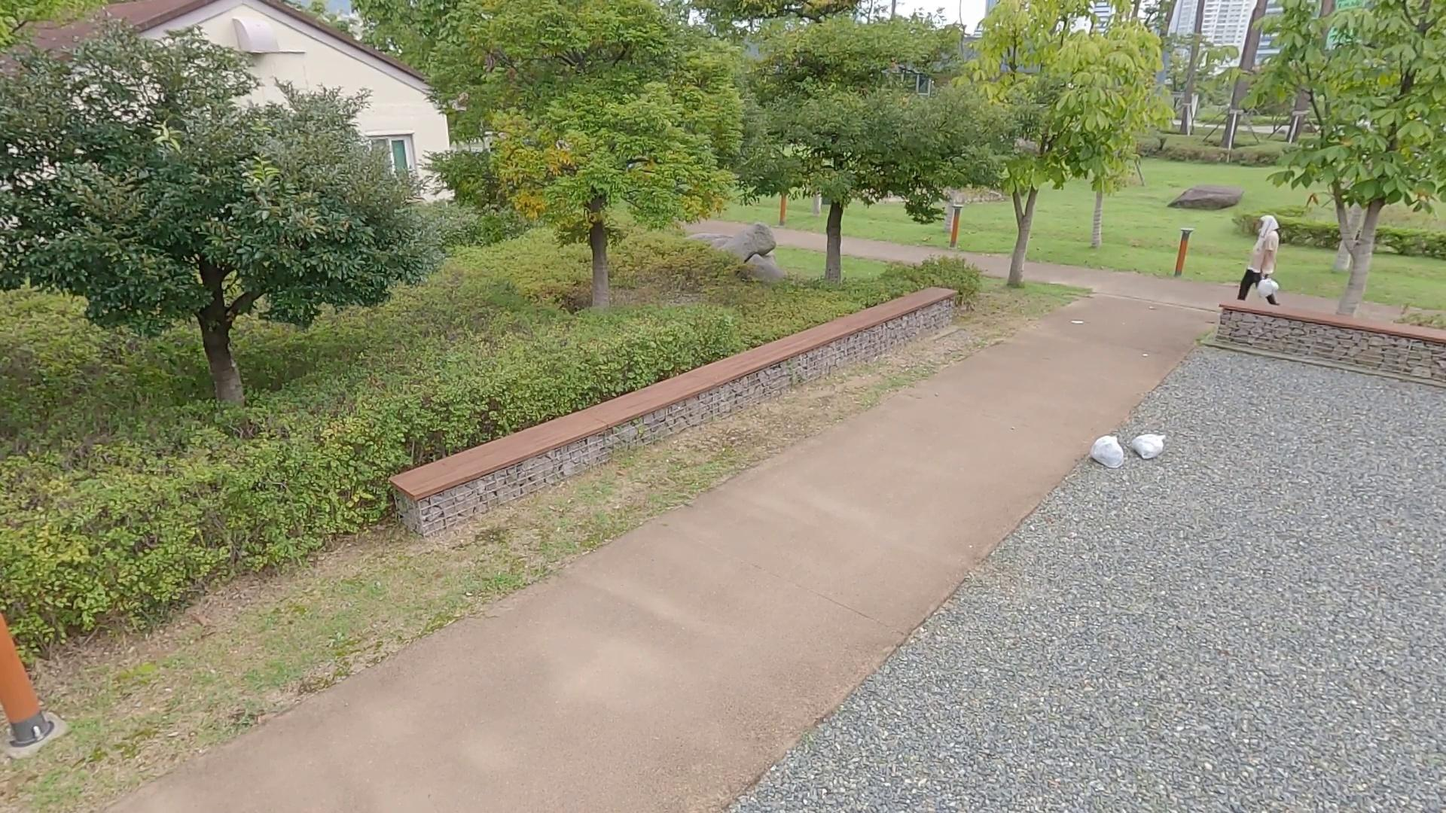person: (1233, 208, 1285, 306)
trash: (1088, 430, 1129, 474), (1126, 426, 1170, 466), (1258, 274, 1280, 300)
